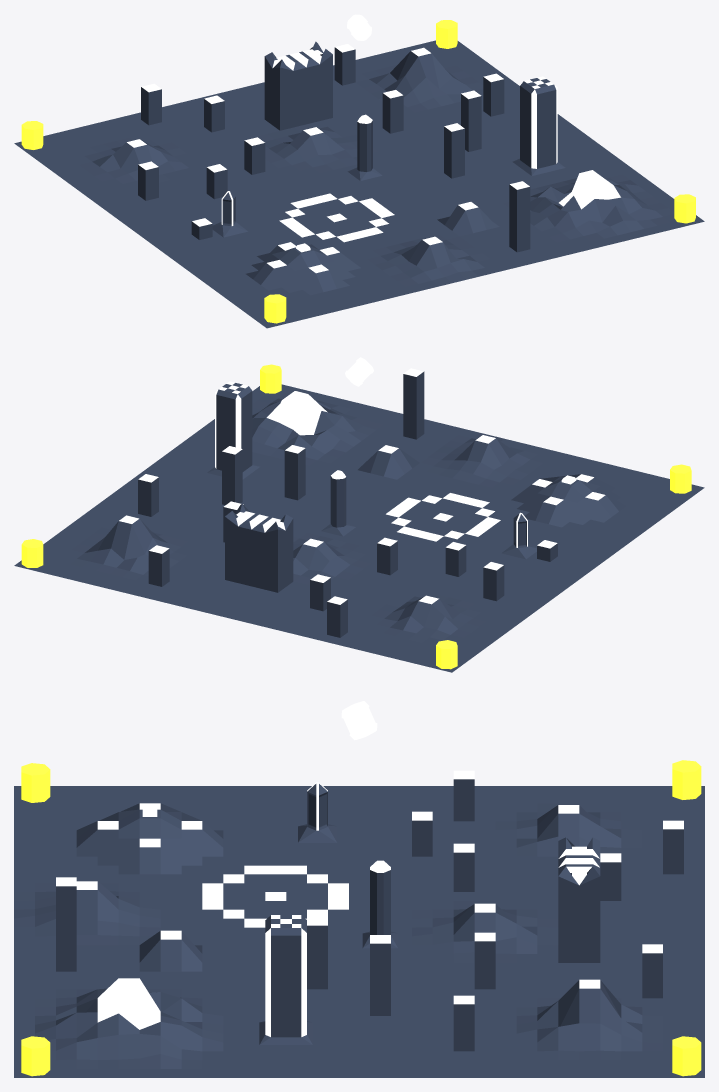
The picture shows the model from 3 angles, top to bottom: view 1: azimuth 30°, elevation 25°; view 2: azimuth 150°, elevation 25°; view 3: azimuth 270°, elevation 25°; orthographic projection. The views are drawn at different scales.
Parts seen in each view (by area): view 1: Floor_0, Cylinder guard 3_4, Cylinder guard 2_1, Cylinder guard 4_3, Cylinder guard_2; view 2: Floor_0, Cylinder guard_2, Cylinder guard 4_3, Cylinder guard 3_4, Cylinder guard 2_1, Cylinder sun_5; view 3: Floor_0, Cylinder guard_2, Cylinder guard 4_3, Cylinder guard 3_4, Cylinder guard 2_1, Cylinder sun_5.
Part boxes in pixels (x1,y1,x2,y2): Floor_0: (14,40,704,328); Cylinder guard 3_4: (264,294,286,323); Cylinder guard 2_1: (21,121,43,149); Cylinder guard 4_3: (674,194,695,223); Cylinder guard_2: (436,20,457,48); Floor_0: (14,368,704,672); Cylinder guard_2: (21,539,43,567); Cylinder guard 4_3: (260,364,281,393); Cylinder guard 3_4: (670,464,691,493); Cylinder guard 2_1: (436,640,457,669); Cylinder sun_5: (345,357,373,386); Floor_0: (14,770,704,1077); Cylinder guard_2: (672,1036,701,1076); Cylinder guard 4_3: (21,1036,50,1076); Cylinder guard 3_4: (21,763,50,802); Cylinder guard 2_1: (672,760,701,799); Cylinder sun_5: (341,701,377,740).
Bounding box in the file's own units: 45.25 × 16.57 × 45.25.
